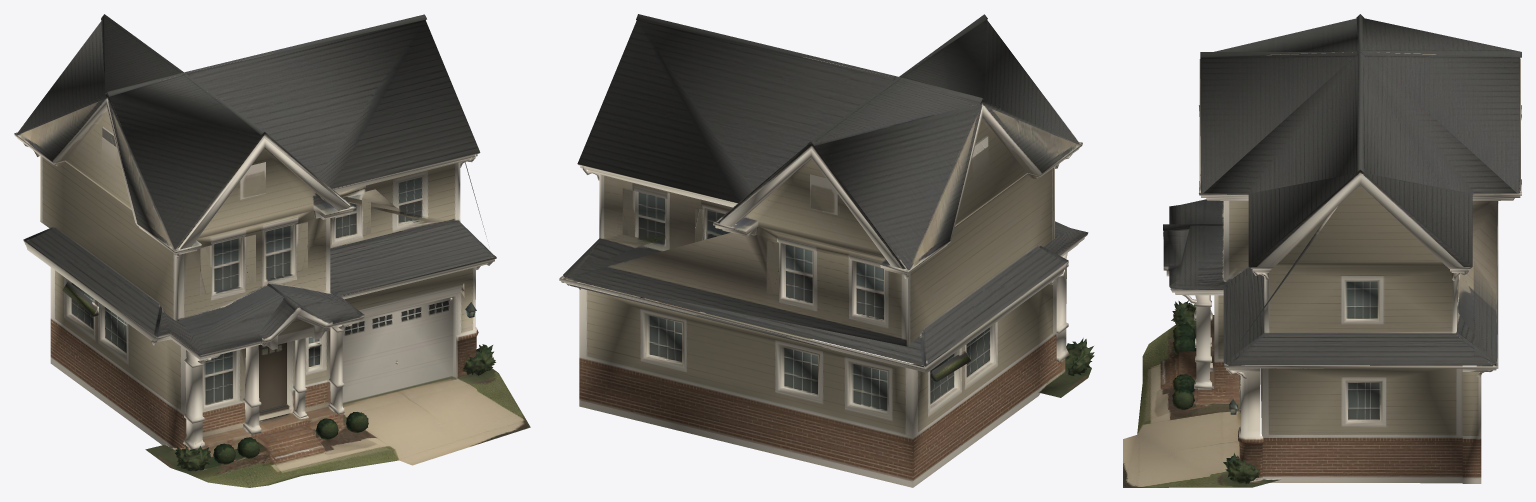
Rendered from 019dfc0e-150e-7e79-8706-d4ef35247098.glb.
3 renders of one model, left to right at view 1: azimuth 30°, elevation 25°; view 2: azimuth 150°, elevation 25°; view 3: azimuth 270°, elevation 25°, orthographic. The views are drawn at different scales.
Visible parts, largest first — view 1: tripo_node_b002b775-0443-40ed-b01a-8226cc7e49ce; view 2: tripo_node_b002b775-0443-40ed-b01a-8226cc7e49ce; view 3: tripo_node_b002b775-0443-40ed-b01a-8226cc7e49ce.
Part boxes in pixels (left/top/right/bottom): tripo_node_b002b775-0443-40ed-b01a-8226cc7e49ce: left=14, top=14, right=530, bottom=487; tripo_node_b002b775-0443-40ed-b01a-8226cc7e49ce: left=559, top=14, right=1094, bottom=487; tripo_node_b002b775-0443-40ed-b01a-8226cc7e49ce: left=1123, top=14, right=1521, bottom=487.
Size of the model in its own units: 0.998 by 0.9238 by 0.998.
1 material, 1 textured.
